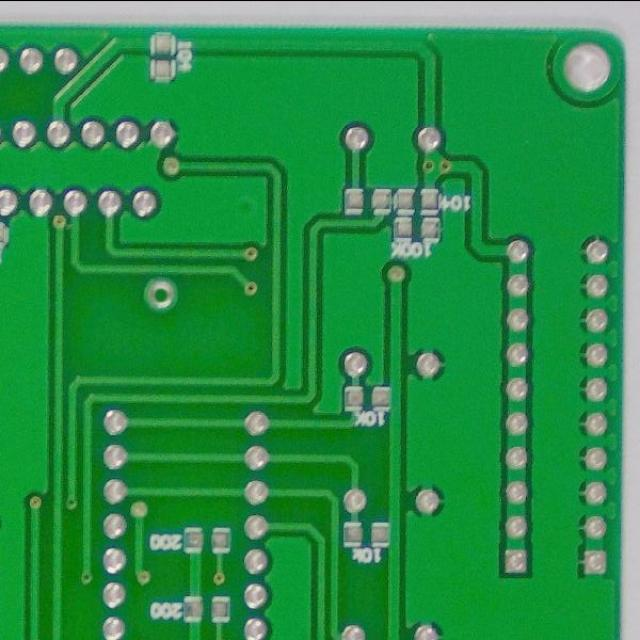missing_hole: (143, 278, 176, 310)
